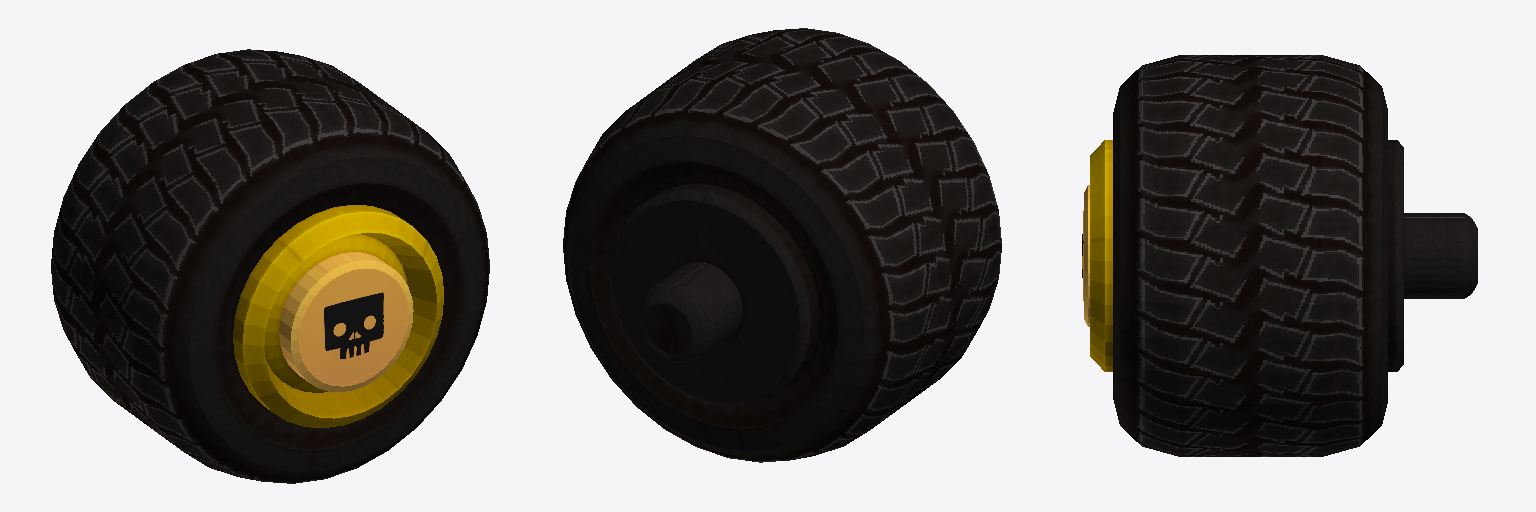
3 views of the same model, side by side, from view 1: azimuth 30°, elevation 25°; view 2: azimuth 150°, elevation 25°; view 3: azimuth 270°, elevation 25° (orthographic).
Visible parts, largest first — view 1: wheel4_wheel4.002; view 2: wheel4_wheel4.002; view 3: wheel4_wheel4.002.
Boxes of the visible parts, x1=… form: wheel4_wheel4.002: x1=51, y1=49, x2=489, y2=483; wheel4_wheel4.002: x1=563, y1=28, x2=1001, y2=462; wheel4_wheel4.002: x1=1082, y1=55, x2=1477, y2=456.
Bounding box in the file's own units: 0.7102 × 0.7102 × 0.7006.
Materials: 1 (1 with a texture image).